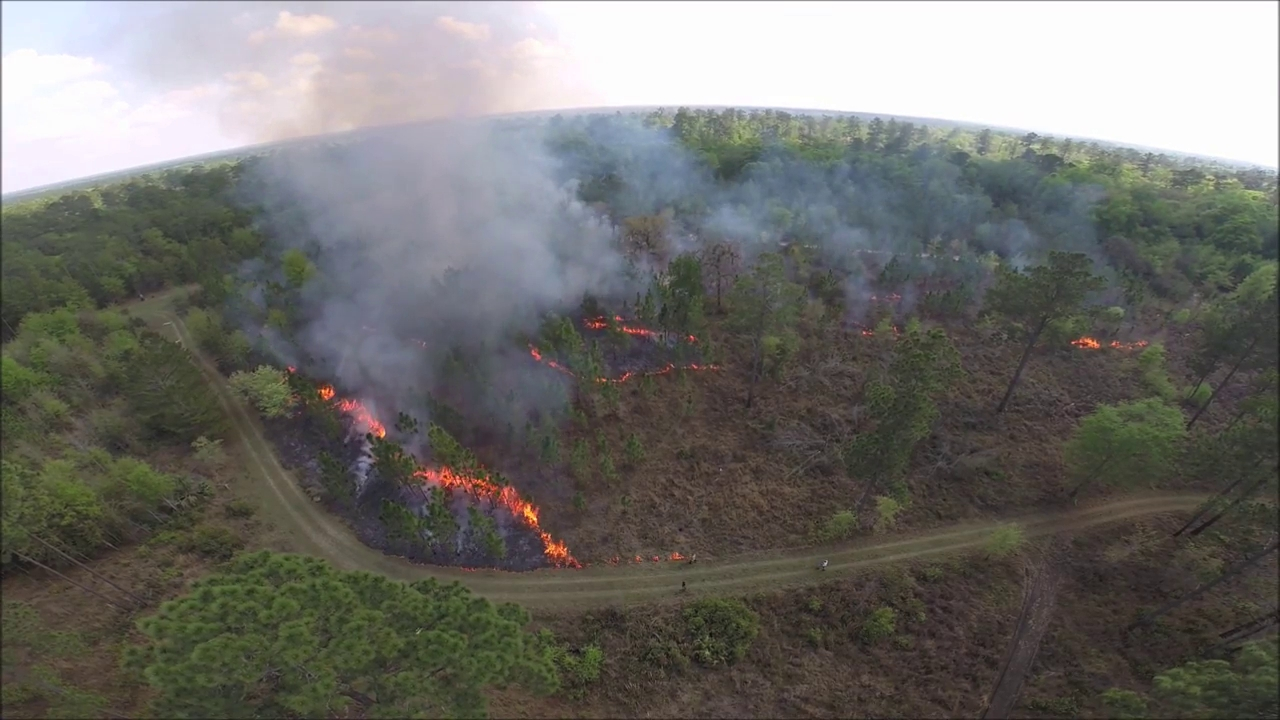forest_fire: (415, 468, 582, 566), (318, 385, 384, 438), (594, 363, 720, 384), (529, 345, 576, 376), (1070, 337, 1148, 349), (607, 552, 691, 563), (617, 324, 664, 340), (583, 316, 620, 329)
